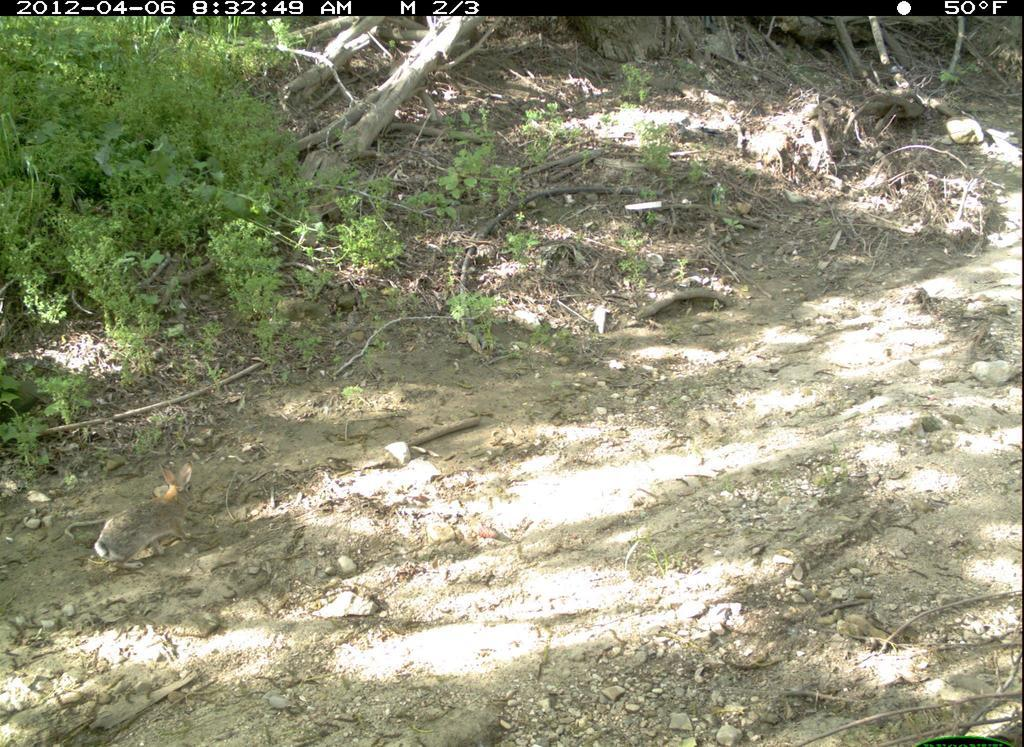rabbit: (85, 454, 213, 577)
